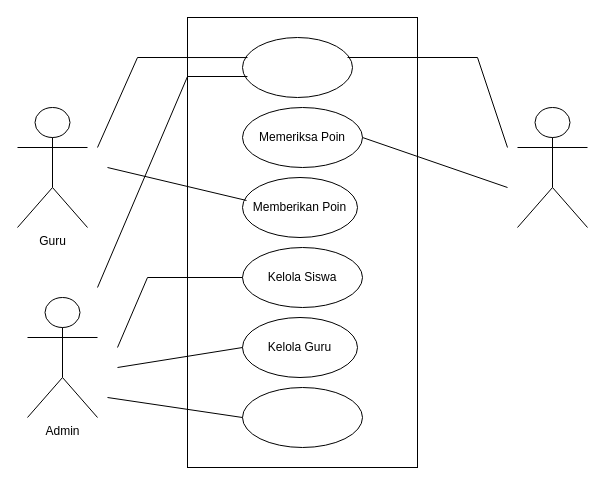
Some shapes in this 605 by 485 pixel diagram are drawn without their labels. Each missing label, with the box of its shape:
Kelola Pelanggaran: (242, 386, 362, 448)
Login: (242, 36, 352, 98)
Siswa: (516, 106, 588, 228)
